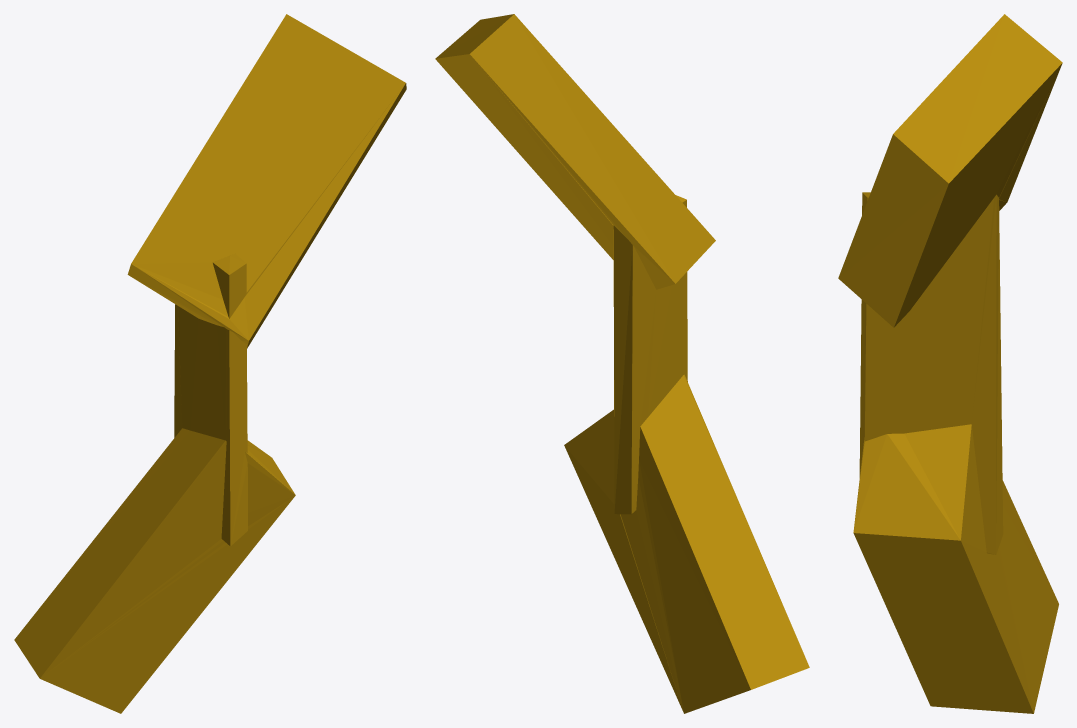
The picture shows the model from 3 angles, left to right: view 1: azimuth 30°, elevation 25°; view 2: azimuth 150°, elevation 25°; view 3: azimuth 270°, elevation 25°; orthographic projection. The views are drawn at different scales.
Visible parts, largest first — view 1: 066_Cube.270; view 2: 066_Cube.270; view 3: 066_Cube.270.
Boxes of the visible parts, left/top/right/bottom form: 066_Cube.270: left=14, top=14, right=406, bottom=713; 066_Cube.270: left=435, top=14, right=809, bottom=713; 066_Cube.270: left=838, top=14, right=1062, bottom=713.
Size of the model in its own units: 16.68 by 27.53 by 6.88.
